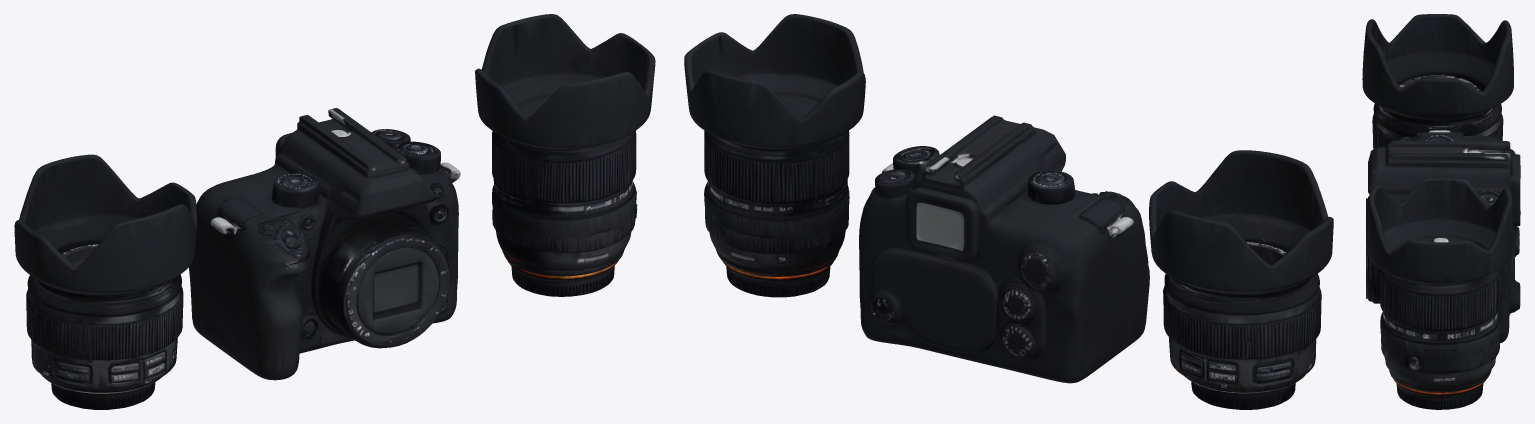
3 renders of one model, left to right at view 1: azimuth 30°, elevation 25°; view 2: azimuth 150°, elevation 25°; view 3: azimuth 270°, elevation 25°, orthographic. The views are drawn at different scales.
Parts seen in each view (by area): view 1: node_0; view 2: node_0; view 3: node_0.
Boxes of the visible parts, <box> form: node_0: <box>14,14,655,409</box>; node_0: <box>684,14,1333,409</box>; node_0: <box>1362,14,1520,409</box>.
Size of the model in its own units: 1.15 by 0.4113 by 0.2964.
Materials: 1 (1 with a texture image).
